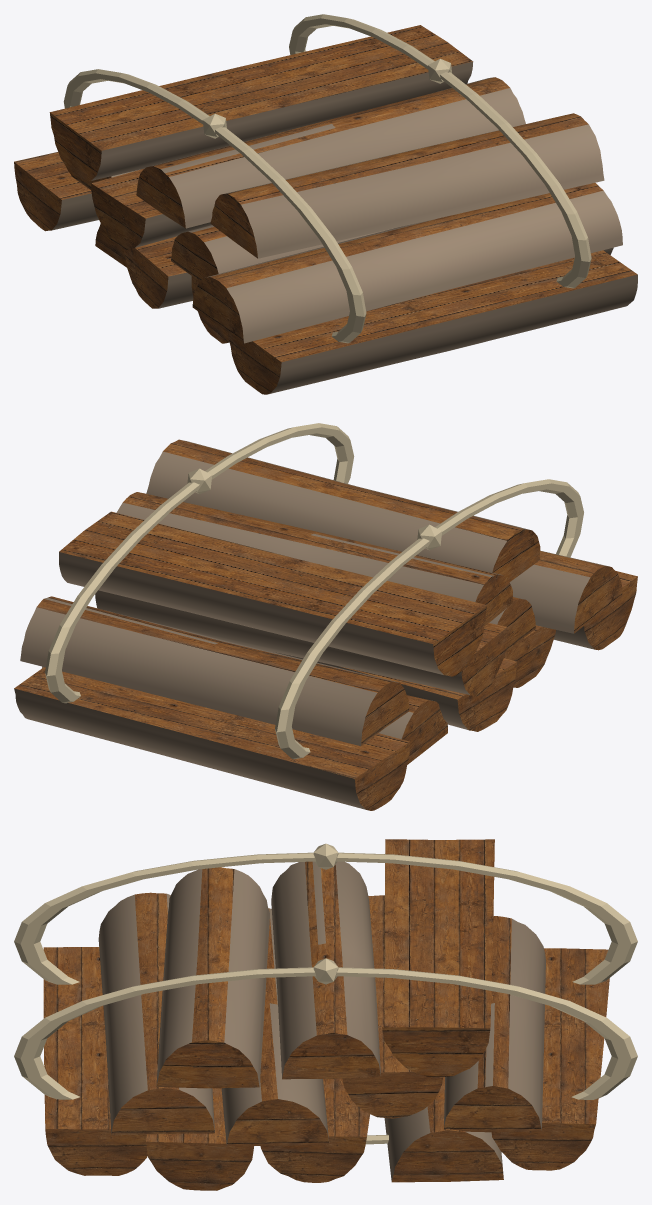
The model's file is firewood-stack-v01.glb.
3 renders of one model, top to bottom at view 1: azimuth 30°, elevation 25°; view 2: azimuth 150°, elevation 25°; view 3: azimuth 270°, elevation 25°, orthographic. The views are drawn at different scales.
Visible parts, largest first — view 1: firewood-stack; view 2: firewood-stack; view 3: firewood-stack.
Boxes of the visible parts, bbox=[...] form: firewood-stack: bbox=[14, 14, 637, 394]; firewood-stack: bbox=[14, 423, 637, 810]; firewood-stack: bbox=[14, 839, 637, 1190].
Bounding box in the file's own units: 1.54 × 0.6378 × 1.93.
Materials: 3 (1 with a texture image).
